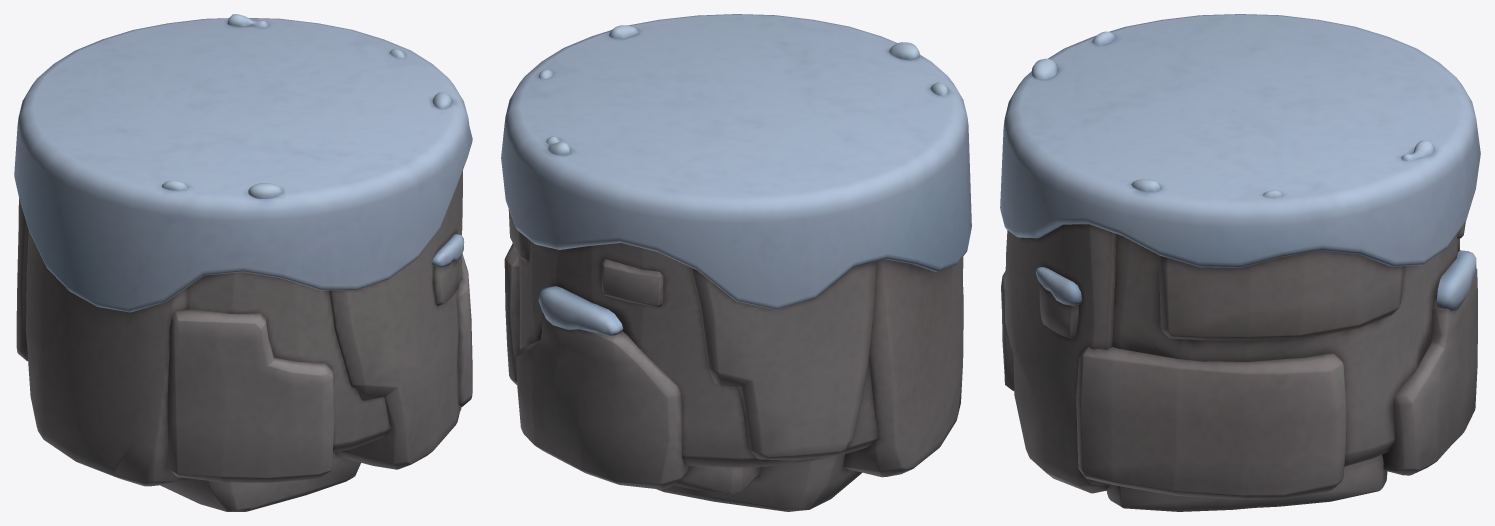
Rendered from SnowFloor_Cylinder.fbx.
3 views of the same model, side by side, from view 1: azimuth 30°, elevation 25°; view 2: azimuth 150°, elevation 25°; view 3: azimuth 270°, elevation 25° (orthographic). The views are drawn at different scales.
Visible parts, largest first — view 1: SnowFloor_Cylinder; view 2: SnowFloor_Cylinder; view 3: SnowFloor_Cylinder.
Boxes of the visible parts, x1,y1,x2,y2 form: SnowFloor_Cylinder: [14, 14, 472, 511]; SnowFloor_Cylinder: [501, 14, 971, 511]; SnowFloor_Cylinder: [1000, 14, 1480, 511].
Size of the model in its own units: 2889 by 2410 by 2896.
